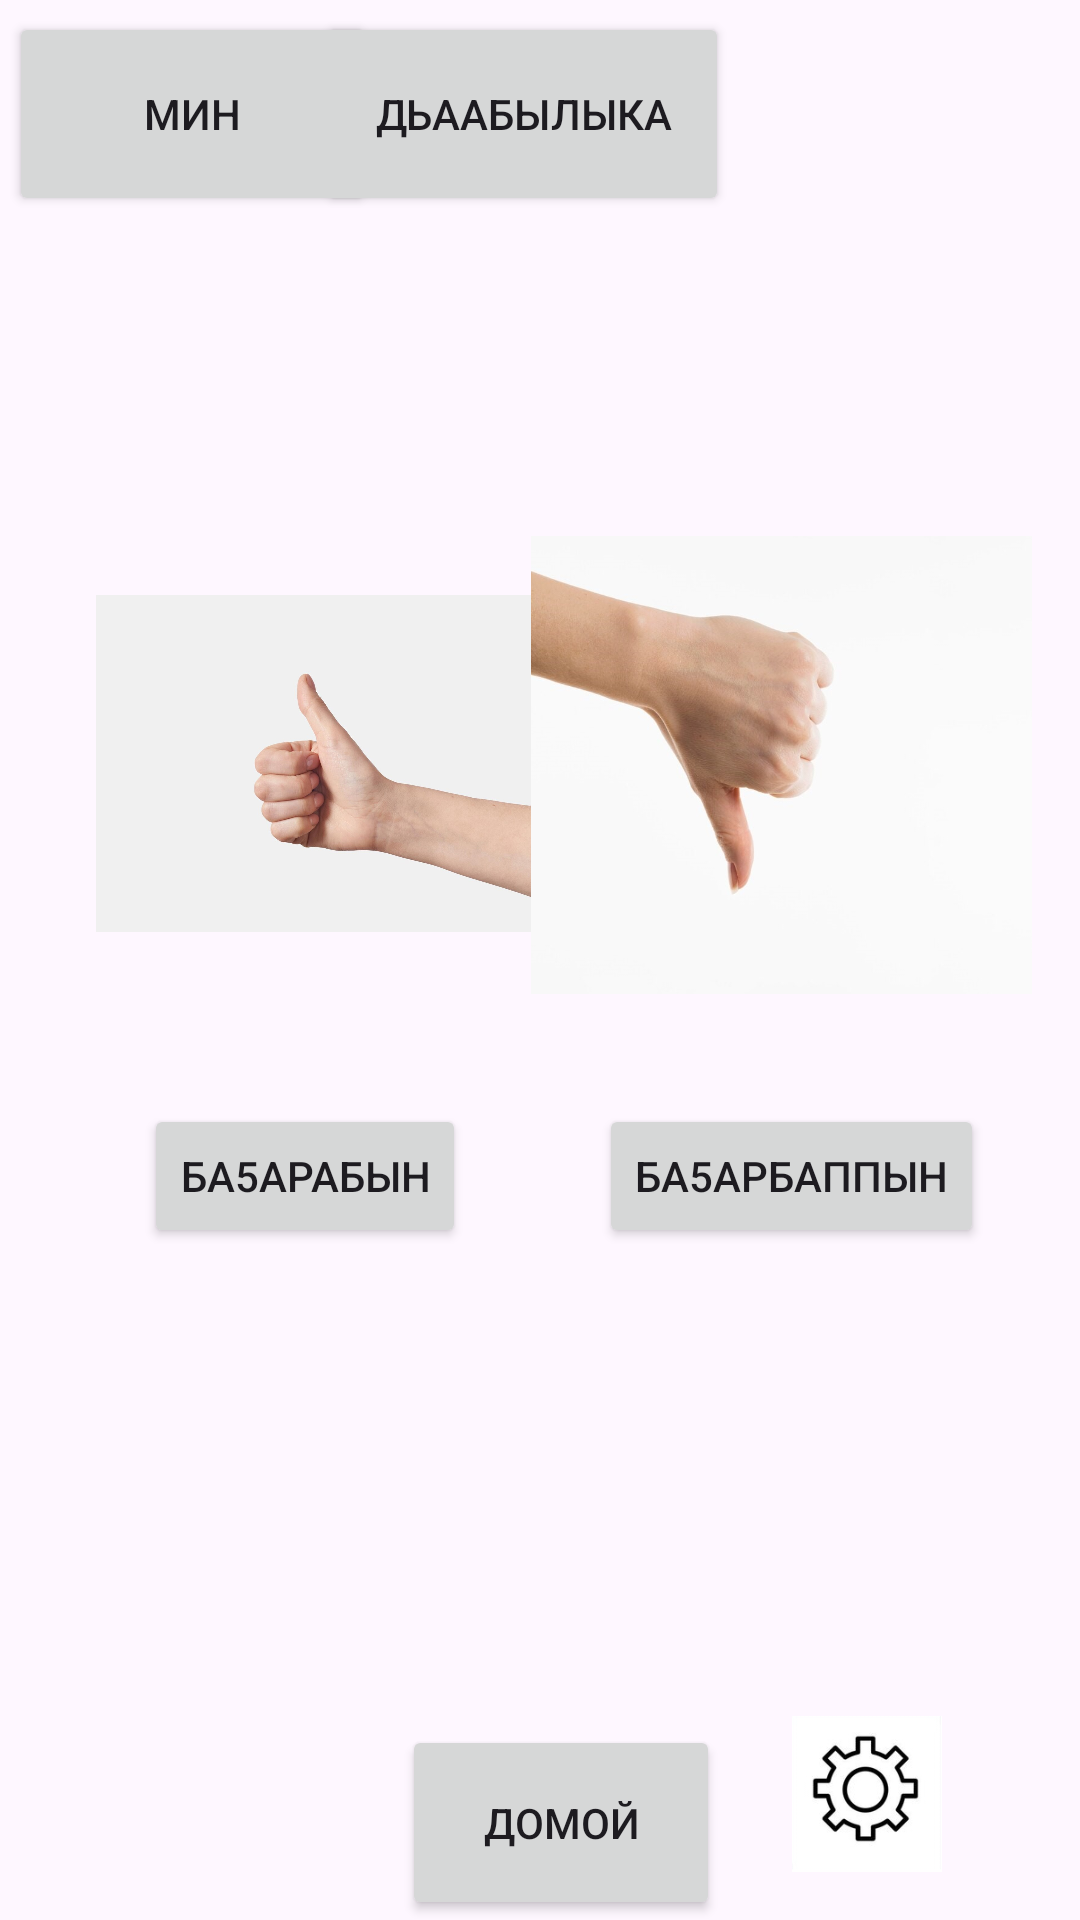

Icons on this 1080w x 1920h Android screen, each with the point to tap as (x=x, y=y):
settings: (x=865, y=1789)
wantnt: (x=682, y=732)
